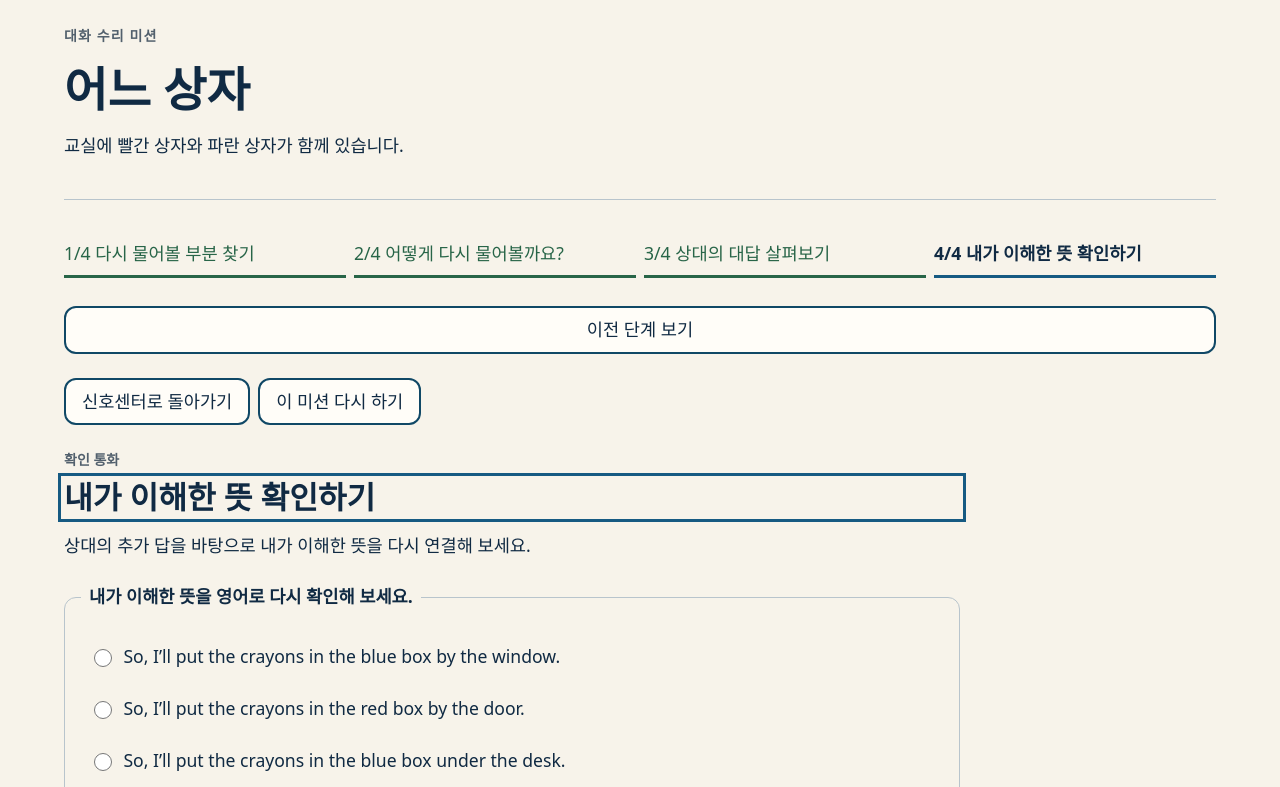
Scenario: ConfirmationCall › keeps the retry feedback tied to confirmation and does not reveal the answer
This screenshot has width=1280, height=787.
Click the radio button labelled "So, I’ll put the crayons in the red box by the door.": (103, 710) [94, 701, 112, 719]
(page scrolled)
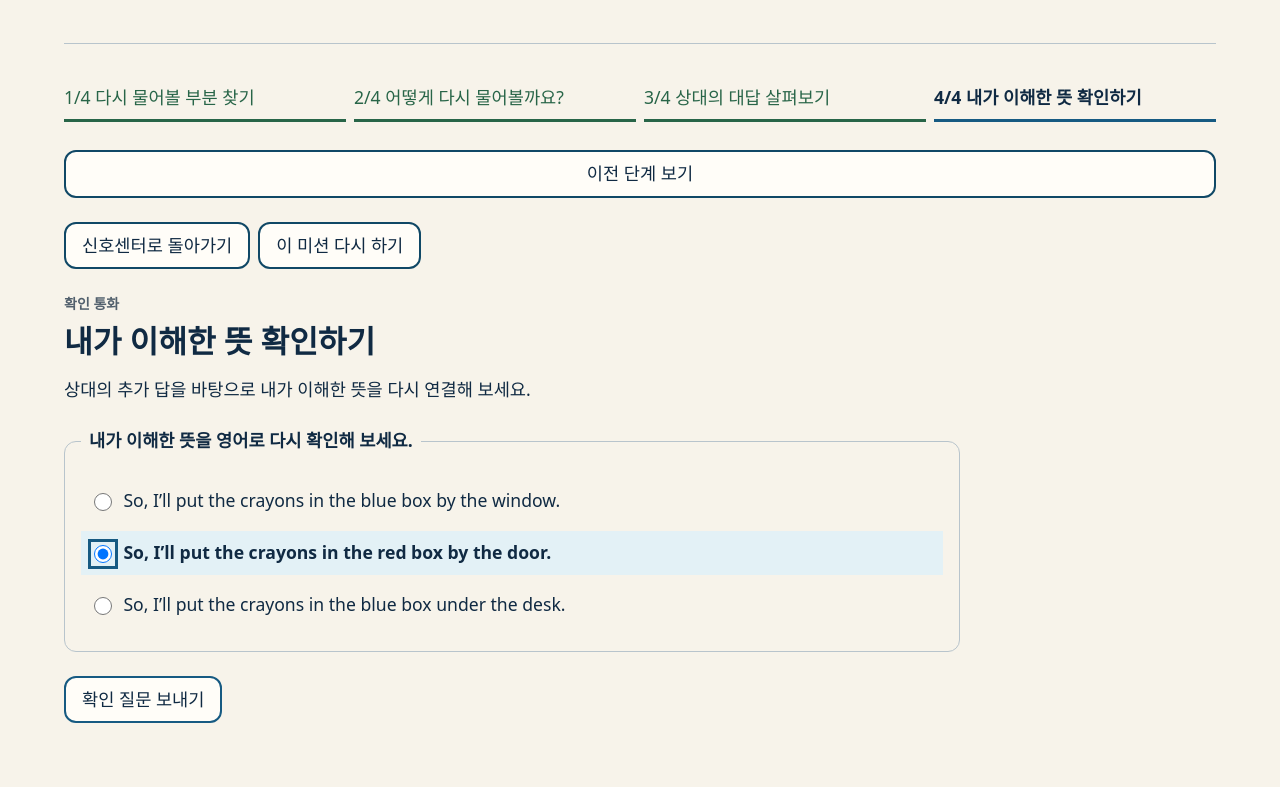
Click the button "확인 질문 보내기": (143, 699) [64, 676, 222, 723]
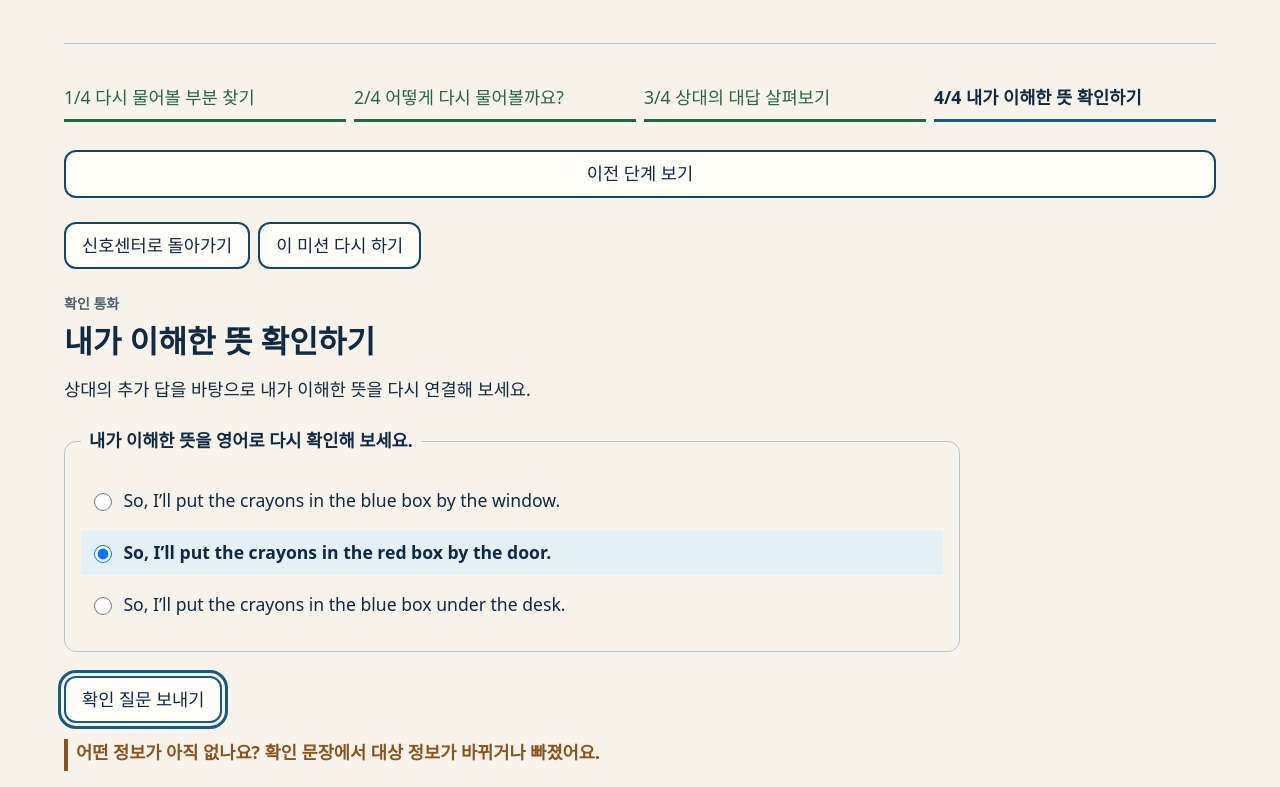
Expected: the message does not show "So, I’ll put the crayons in the blue box by the window.", [64, 739, 960, 771]
Now the message shows "어떤 정보가 아직 없나요?", box [76, 740, 600, 764]
